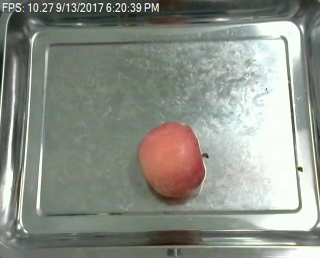Apple: (135, 119, 207, 201)
